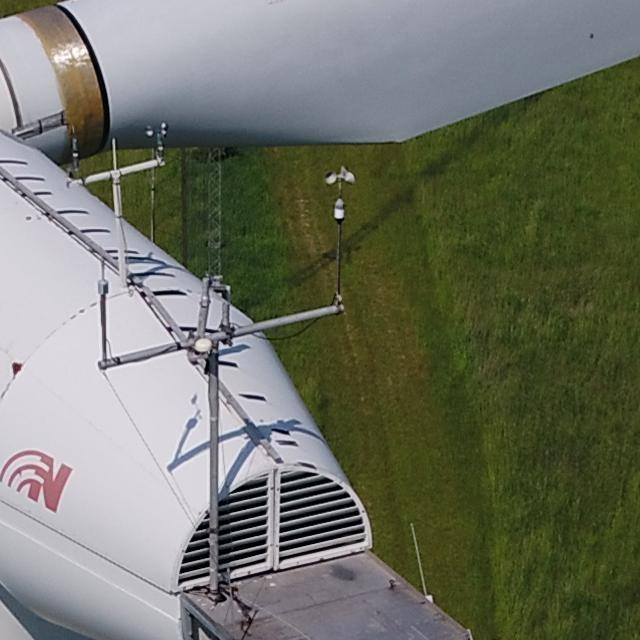damage: (11, 361, 22, 379)
